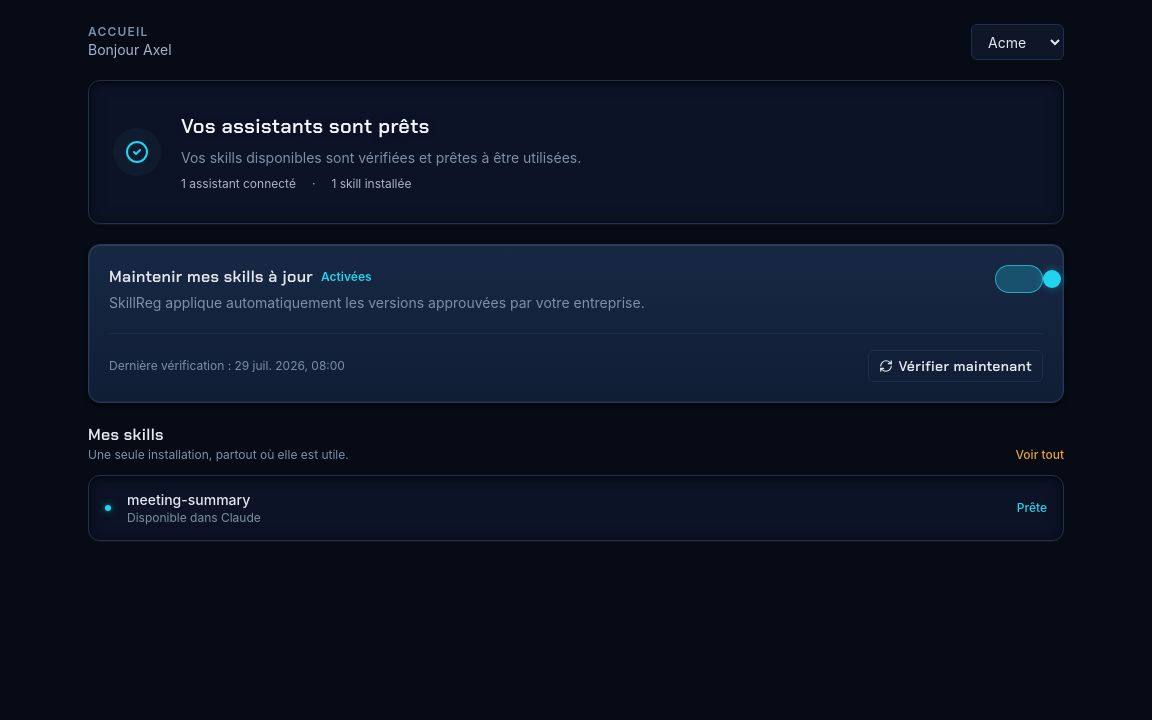
Test: employee dashboard › keeps the current organization and reports a failed switch
This screenshot has width=1152, height=720.
Select "Globex" in the dropdown named "Changer d’entreprise": point(1018, 42) [971,24,1064,60]
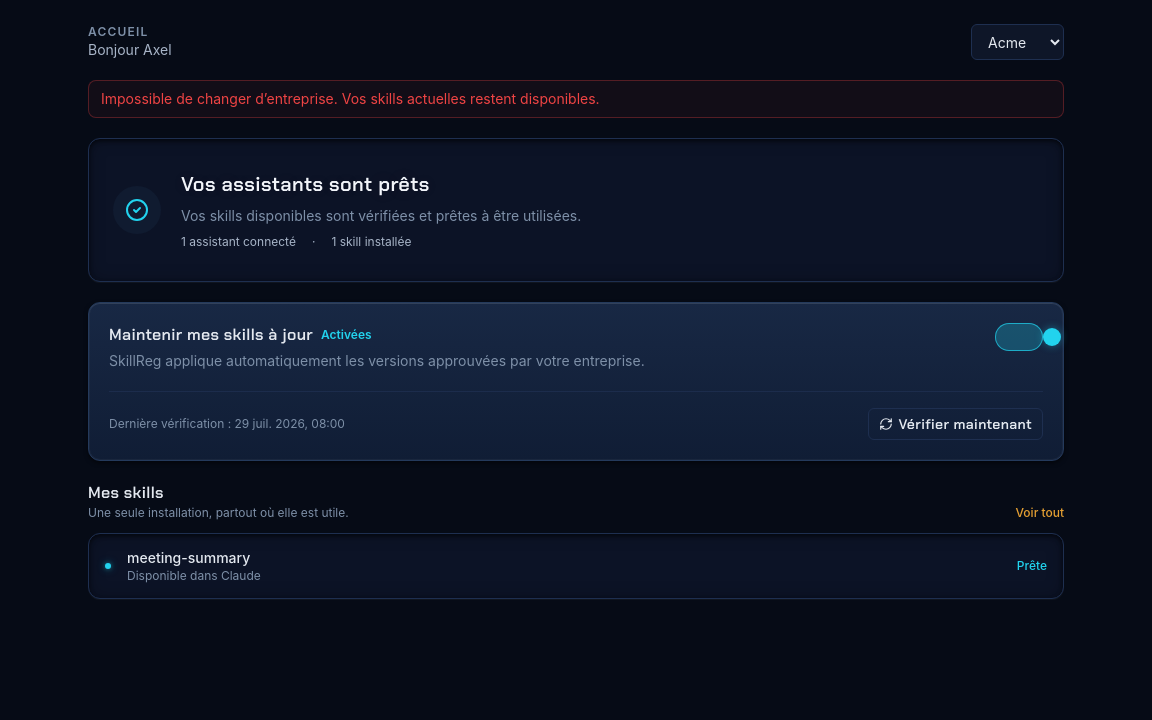
Expected: the message shows "Impossible de changer d’entreprise", [101,90,600,107]
